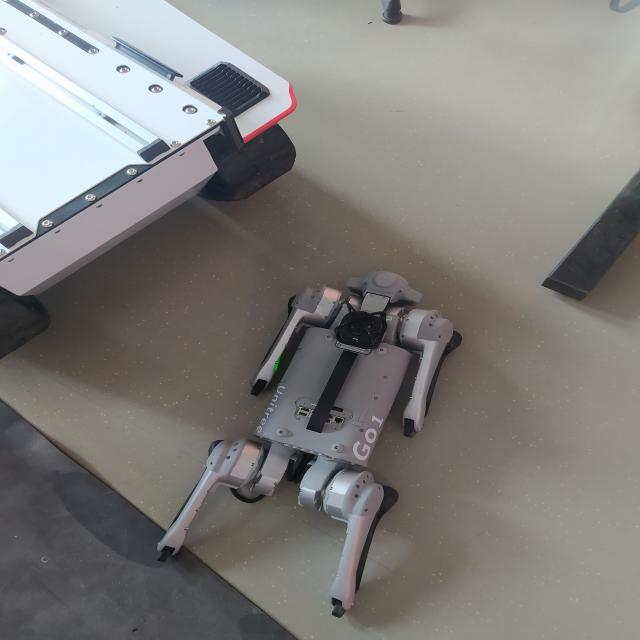unitree-go1-robot: (146, 264, 471, 636)
